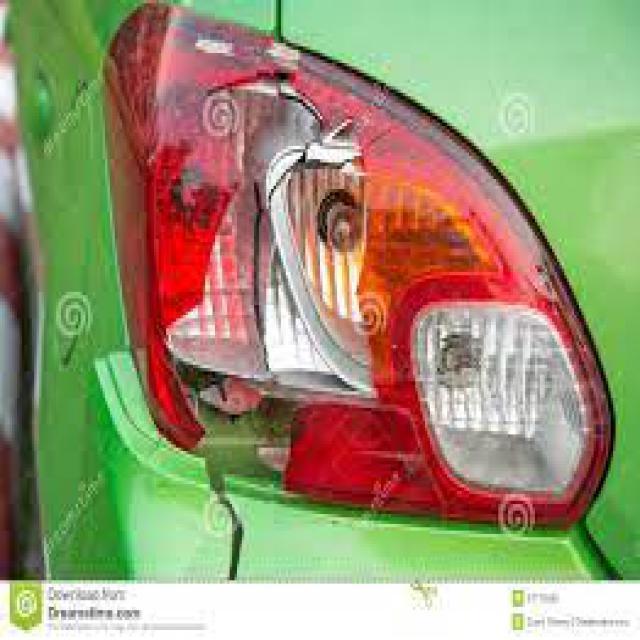Taillight-Damage: (68, 6, 628, 578)
